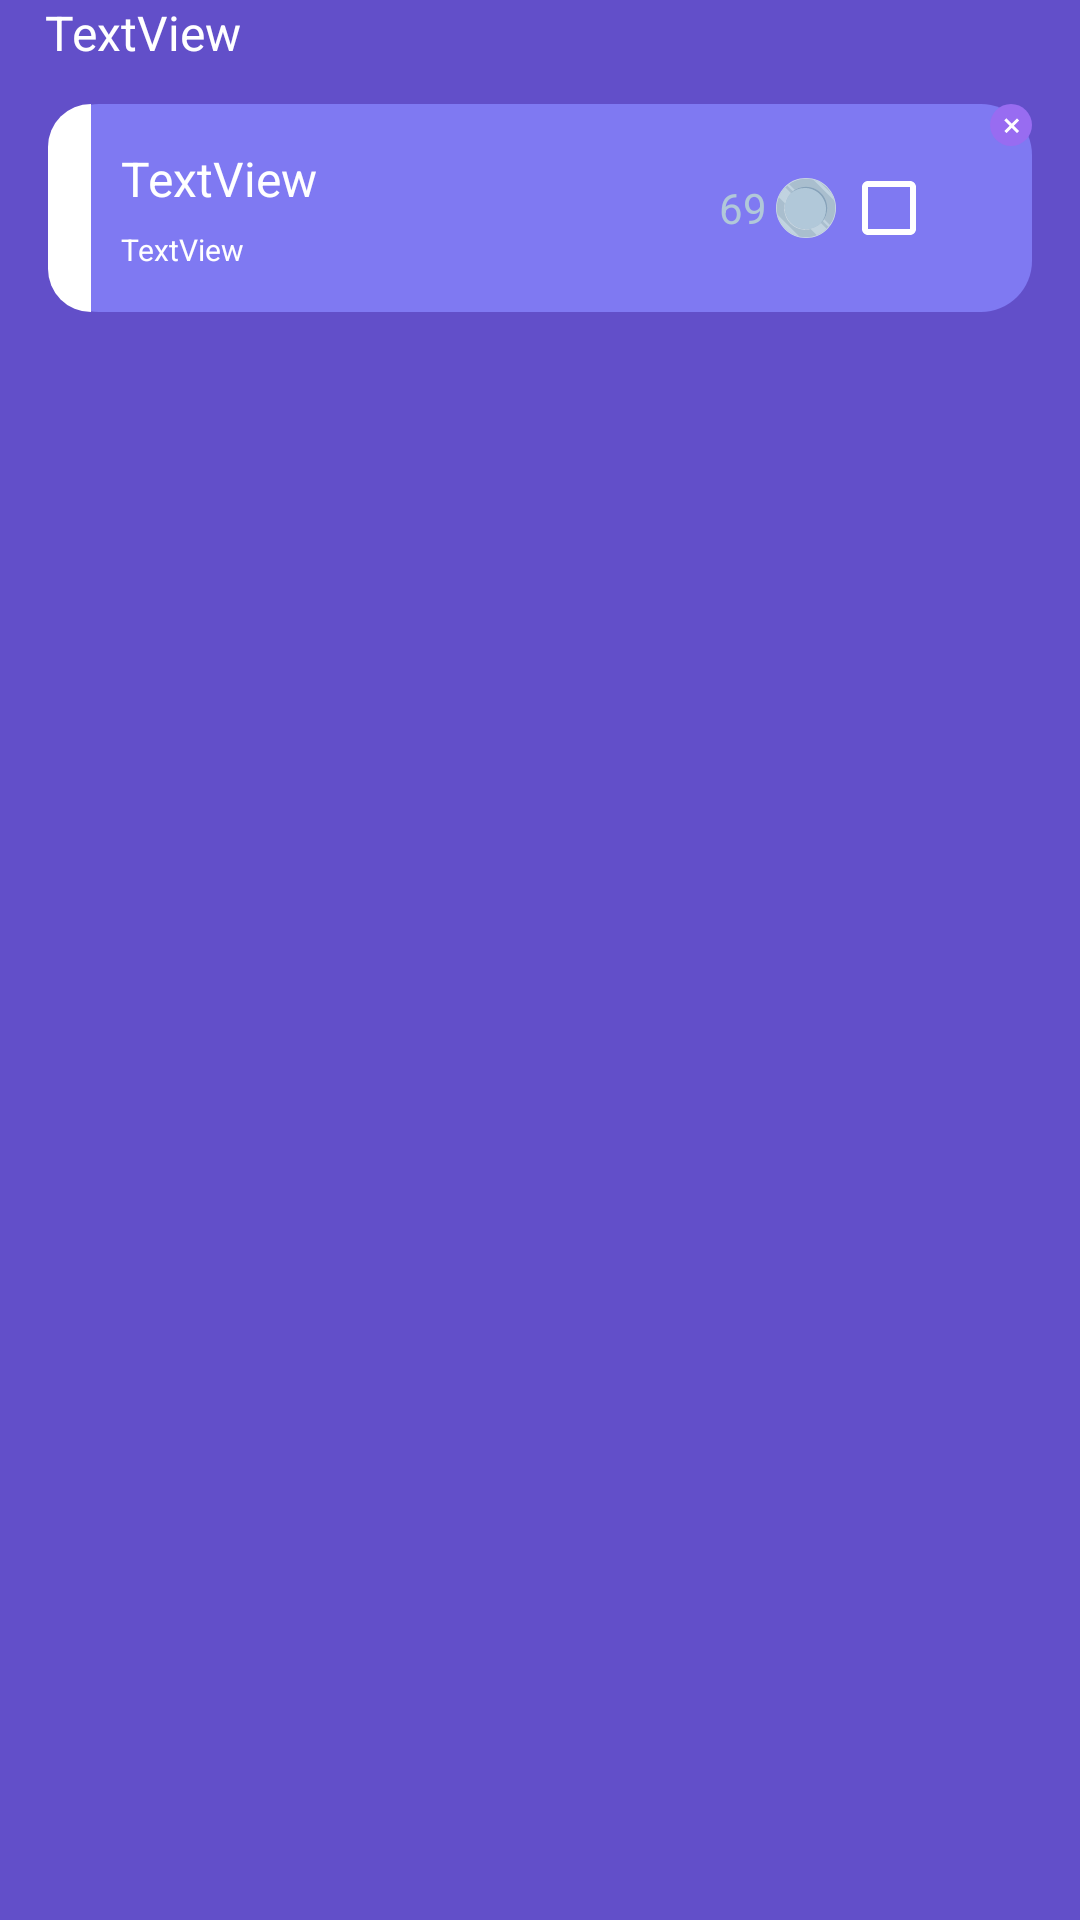

Named icons in this screenshot (1080px×1920px) and their centers, point (x, y):
delete: point (1011, 125)
pic silver coin: point (806, 208)
